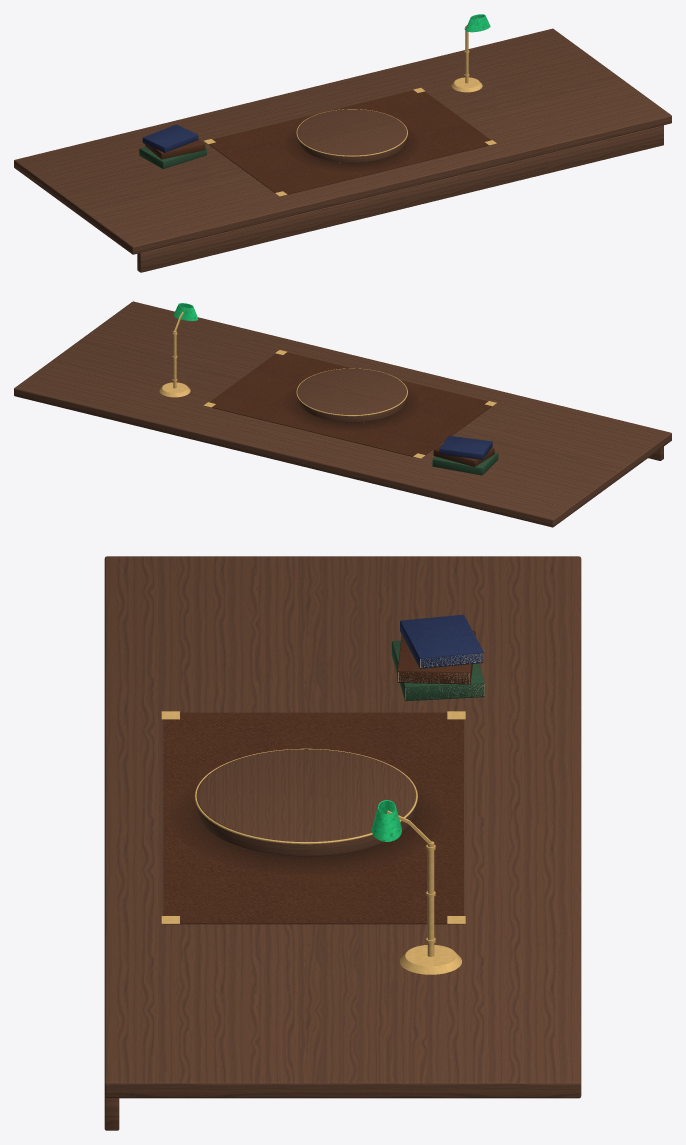
Rendered from orrery-study-hd.glb.
3 renders of one model, top to bottom at view 1: azimuth 30°, elevation 25°; view 2: azimuth 150°, elevation 25°; view 3: azimuth 270°, elevation 25°, orthographic. The views are drawn at different scales.
Visible parts, largest first — view 1: desk-top, blotter, desk-apron, plinth, book-2, contact-shadow, book-0, lamp-base, book-1; view 2: desk-top, blotter, plinth, book-2, contact-shadow, book-0, lamp-base, book-1; view 3: desk-top, blotter, plinth, book-2, contact-shadow, lamp-base, book-0, book-1, plinth-trim, lamp-shade.
Part boxes in pixels (<box>): desk-top: <box>14,28,671,254</box>; blotter: <box>209,90,493,196</box>; desk-apron: <box>137,125,663,272</box>; plinth: <box>297,109,406,162</box>; book-2: <box>142,124,198,152</box>; contact-shadow: <box>293,136,410,167</box>; book-0: <box>139,146,206,168</box>; lamp-base: <box>451,25,482,92</box>; book-1: <box>145,138,205,159</box>; desk-top: <box>14,301,671,527</box>; blotter: <box>206,352,491,458</box>; plinth: <box>297,368,406,422</box>; book-2: <box>439,435,492,459</box>; contact-shadow: <box>293,396,410,427</box>; book-0: <box>432,452,498,475</box>; lamp-base: <box>159,331,190,397</box>; book-1: <box>433,444,494,466</box>; desk-top: <box>104,556,581,1098</box>; blotter: <box>163,712,463,924</box>; plinth: <box>196,749,416,856</box>; book-2: <box>400,614,483,668</box>; contact-shadow: <box>189,802,423,866</box>; lamp-base: <box>400,841,461,974</box>; book-0: <box>391,640,484,701</box>; book-1: <box>397,630,475,684</box>; plinth-trim: <box>194,748,417,844</box>; lamp-shade: <box>372,800,401,841</box>.
Size of the model in its own units: 3.4 by 0.635 by 1.3.
8 materials, 8 textured.
